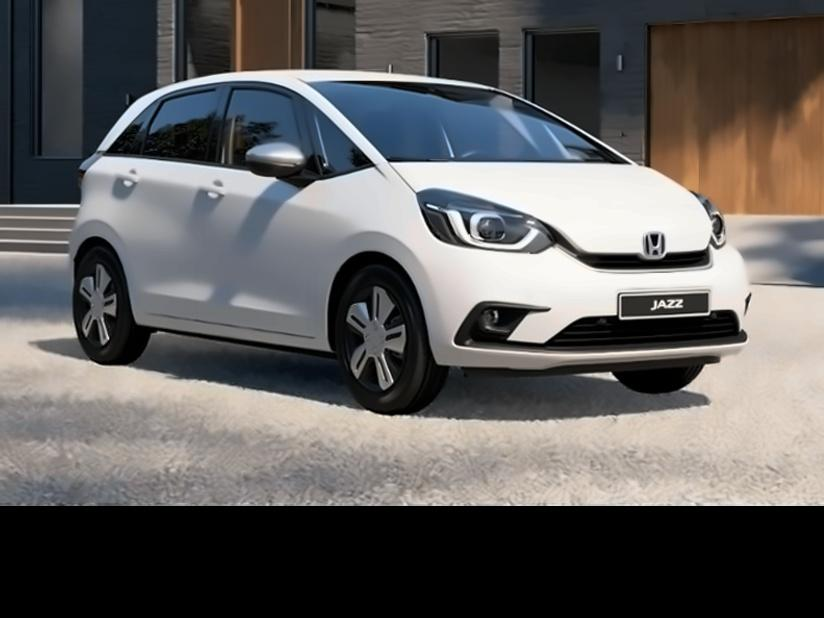Car hood: (390, 155, 716, 257)
Driver-s door - -F-R-: (209, 76, 321, 345)
Fender - -F-R-: (321, 158, 424, 350)
Fender - -R-R-: (82, 183, 132, 324)
Front bumper: (427, 255, 762, 377)
Headlight - -L-: (680, 184, 740, 250)
Headlight - -R-: (414, 181, 561, 262)
Passenger-s door - -R-R-: (114, 76, 209, 325)
Rear bumper: (66, 201, 90, 275)
Rear light - -R-: (72, 146, 108, 195)
Side bumper - -R-: (125, 300, 337, 359)
Side mirror - -R-: (240, 132, 317, 187)
